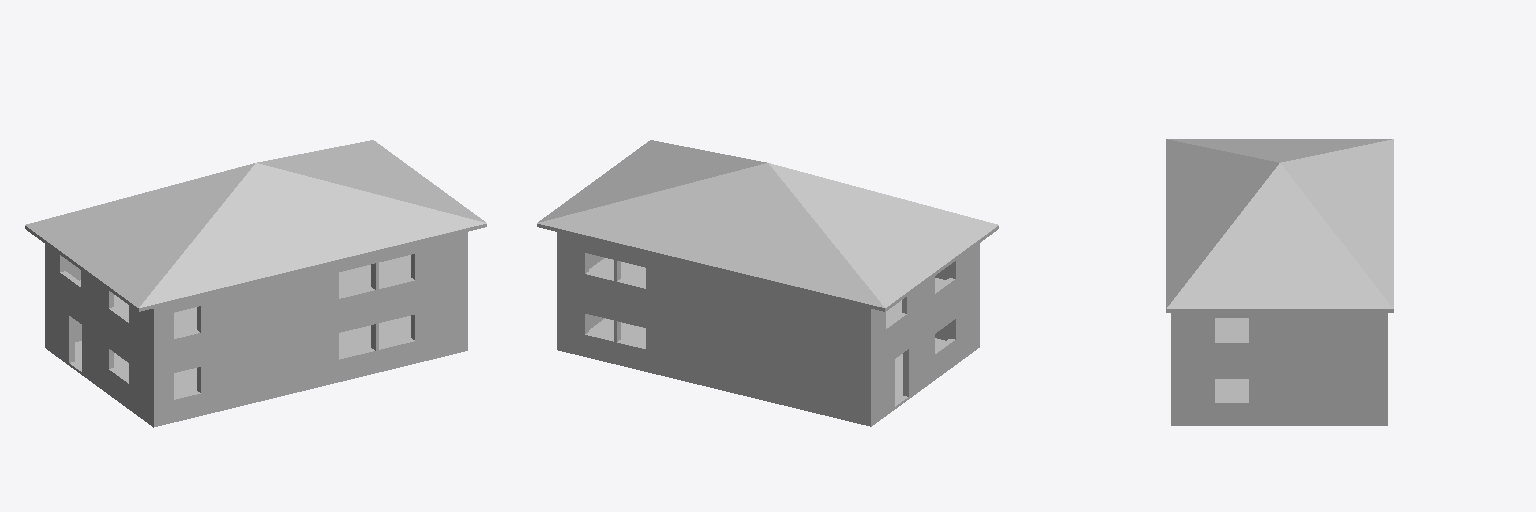
The model's file is house.obj.
The picture shows the model from 3 angles: view 1: azimuth 30°, elevation 25°; view 2: azimuth 150°, elevation 25°; view 3: azimuth 270°, elevation 25°; orthographic projection.
Parts seen in each view (by area): view 1: First_Etage_1_WALL_Boole_16_W_rfel_2; view 2: First_Etage_1_WALL_Boole_16_W_rfel_2; view 3: First_Etage_1_WALL_Boole_16_W_rfel_2.
Boxes of the visible parts, box(x1,y1,x2,y2) form: First_Etage_1_WALL_Boole_16_W_rfel_2: box(25, 140, 486, 427); First_Etage_1_WALL_Boole_16_W_rfel_2: box(537, 140, 998, 426); First_Etage_1_WALL_Boole_16_W_rfel_2: box(1166, 139, 1393, 425).
Bounding box in the file's own units: 1190 × 607 × 673.